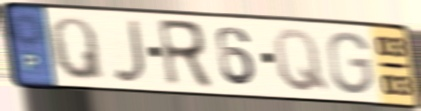6: (214, 25, 258, 89)
G: (325, 28, 375, 97)
J: (109, 17, 149, 85)
Q: (270, 26, 332, 95), (48, 15, 108, 84)
R: (154, 17, 216, 92)
